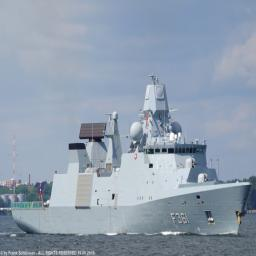Fragata: (10, 72, 255, 239)
